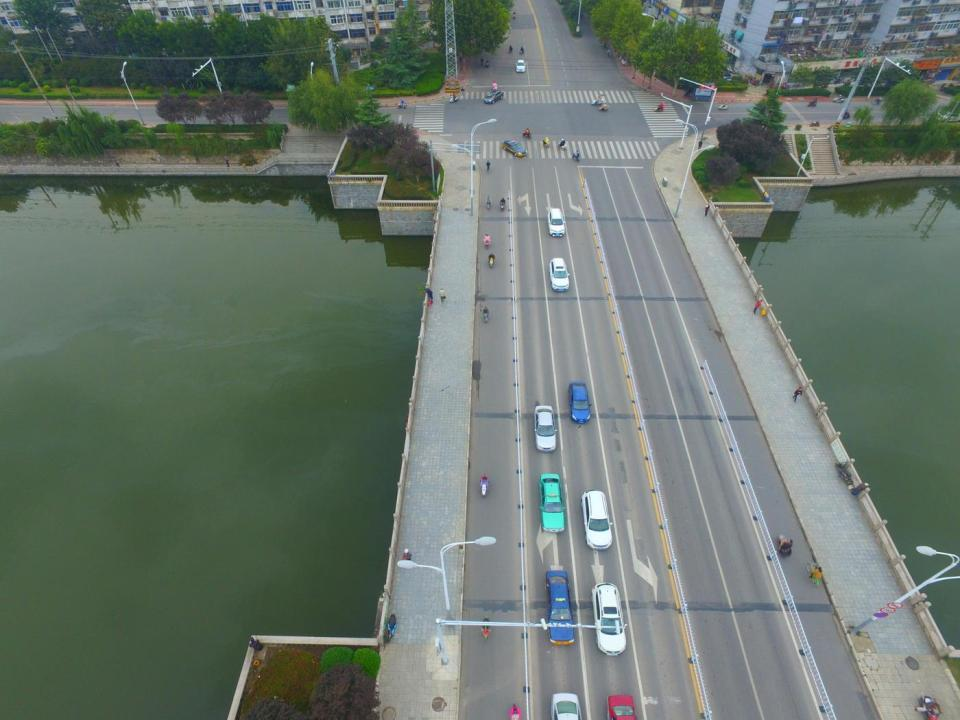car: (589, 581, 627, 657), (542, 567, 578, 647), (580, 488, 613, 551), (538, 470, 568, 534), (531, 404, 560, 454), (569, 380, 593, 424), (547, 256, 570, 292), (500, 139, 530, 159), (548, 207, 566, 237), (483, 90, 505, 105), (714, 63, 730, 81), (515, 58, 526, 74)
